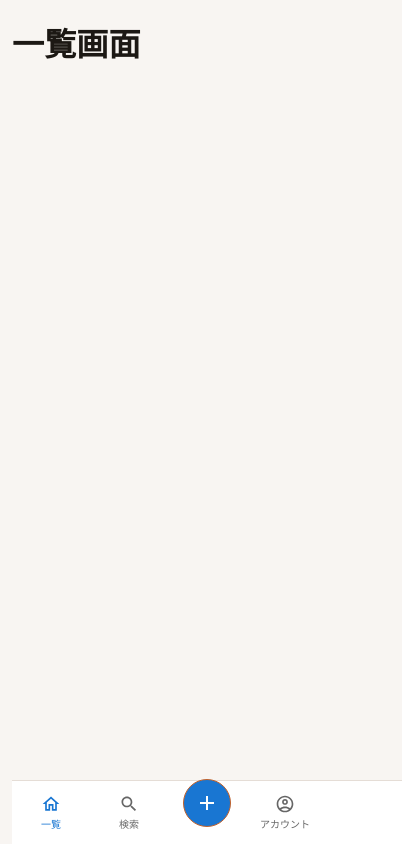
Test: AppShell › モバイルナビゲーションでアカウント画面へ遷移できる
This screenshot has width=402, height=844.
Click the button "アカウント": (285, 812) [246, 781, 324, 843]
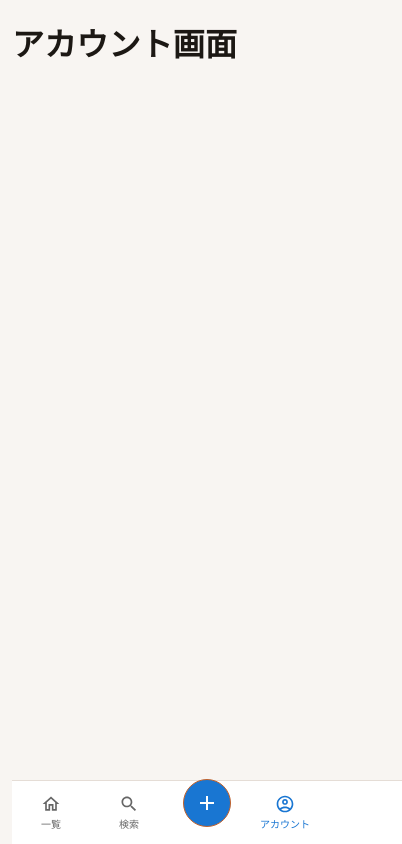
Now the heading "アカウント画面" is shown, box [12, 26, 237, 64]
